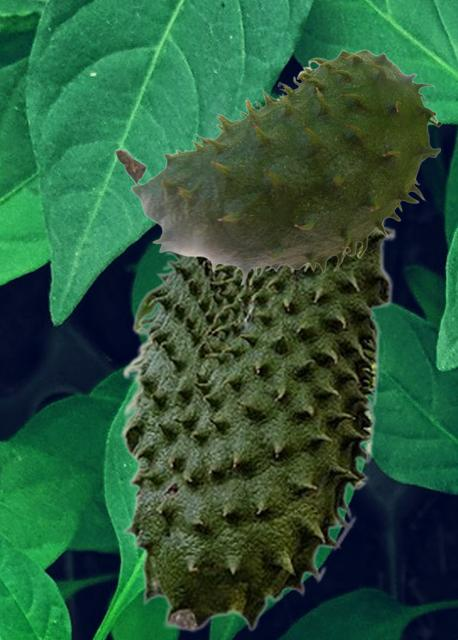guyabano: (119, 220, 395, 632), (114, 49, 441, 285)
